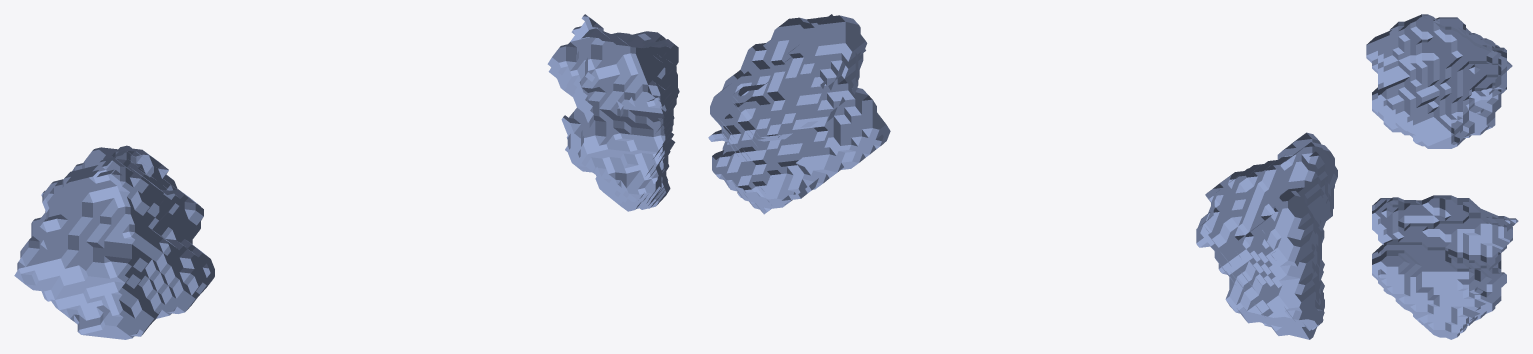
File: region_0191_VIImr__facial_motor_root_.glb
3 views of the same model, side by side, from view 1: azimuth 30°, elevation 25°; view 2: azimuth 150°, elevation 25°; view 3: azimuth 270°, elevation 25° (orthographic). The views are drawn at different scales.
Visible parts, largest first — view 1: world; view 2: world; view 3: world.
Boxes of the visible parts, x1,y1,x2,y2 form: world: (14, 14, 679, 339); world: (708, 14, 1337, 339); world: (1366, 14, 1518, 339).
Bounding box in the file's own units: 0.728 × 0.192 × 0.208.
